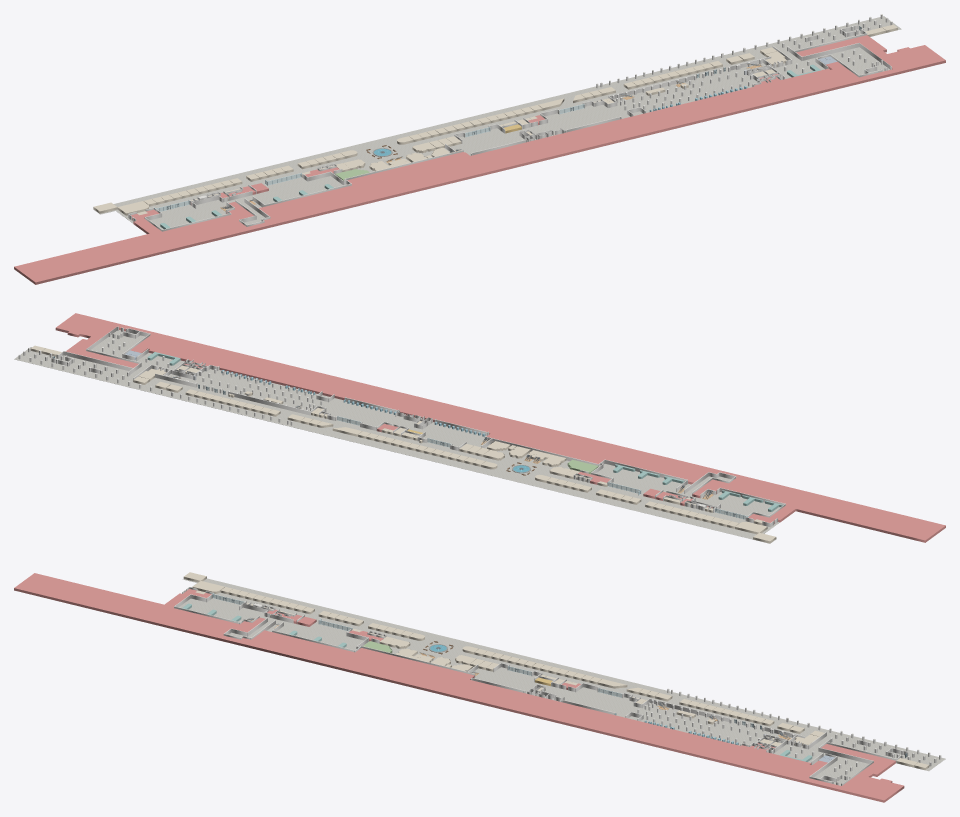
Rendered from buildings-ground-floor.glb.
3 views of the same model, one above another, from view 1: azimuth 30°, elevation 25°; view 2: azimuth 150°, elevation 25°; view 3: azimuth 330°, elevation 25° (orthographic). The views are drawn at different scales.
Parts seen in each view (by area): view 1: area_merah, FLOOR__area_visitor; view 2: area_merah, FLOOR__area_visitor; view 3: area_merah, FLOOR__area_visitor.
Part boxes in pixels (<box>): area_merah: <box>14,35,945,284</box>; FLOOR__area_visitor: <box>95,16,901,229</box>; area_merah: <box>55,313,945,542</box>; FLOOR__area_visitor: <box>14,330,779,543</box>; area_merah: <box>14,573,904,802</box>; FLOOR__area_visitor: <box>179,578,945,785</box>.
Size of the model in its own units: 650 by 3.43 by 78.07.
Materials: 31 (1 with a texture image).
